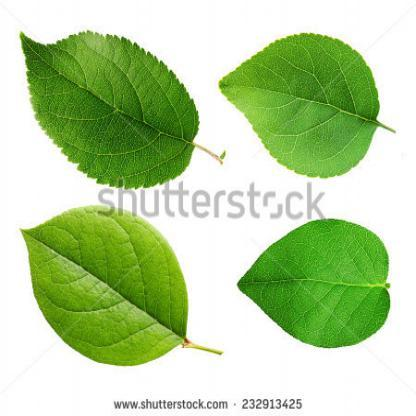Apple leaf: (20, 21, 232, 200), (13, 212, 223, 390), (212, 23, 415, 186)
